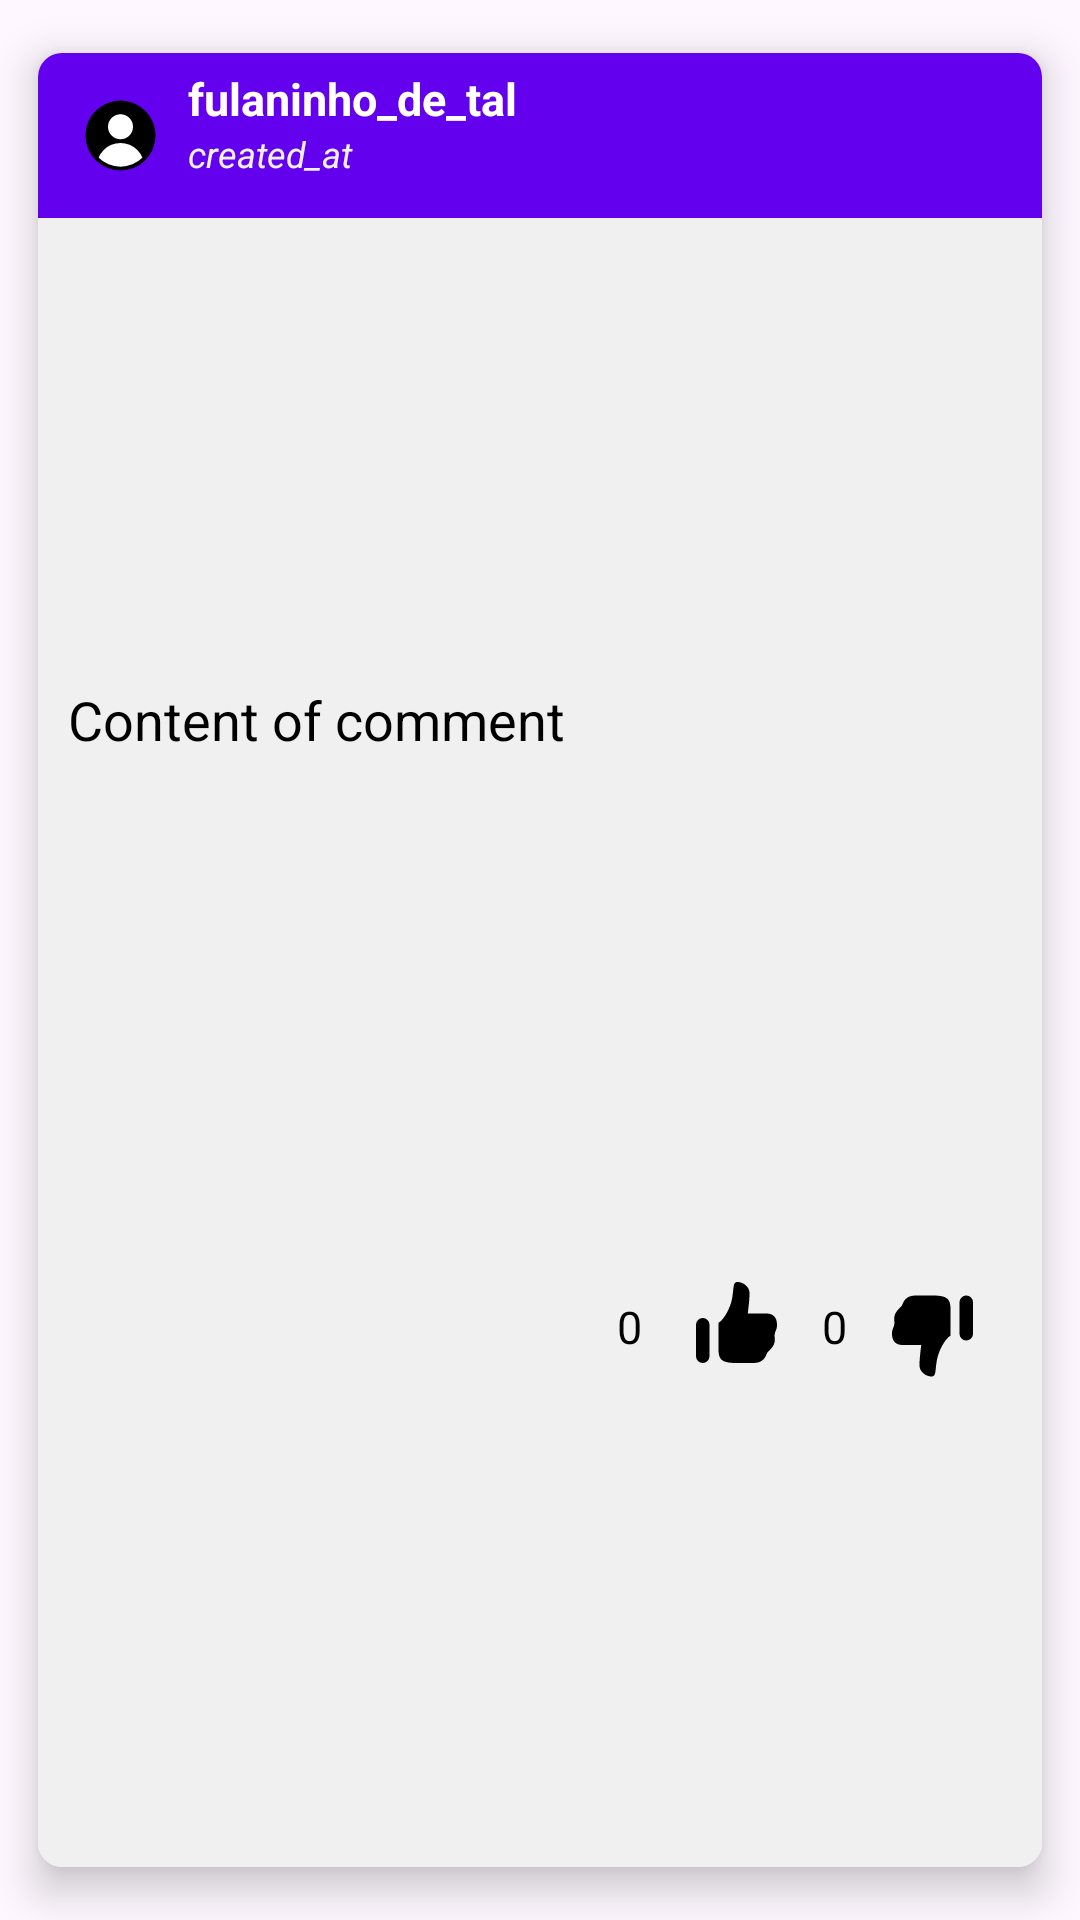

Icon bounding boxes for this 1080 × 1920 phone screenshot, format (x1, y1, x2, y2):
dislike: (892, 1295, 973, 1377)
like: (696, 1282, 777, 1363)
profile: (85, 100, 156, 171)
